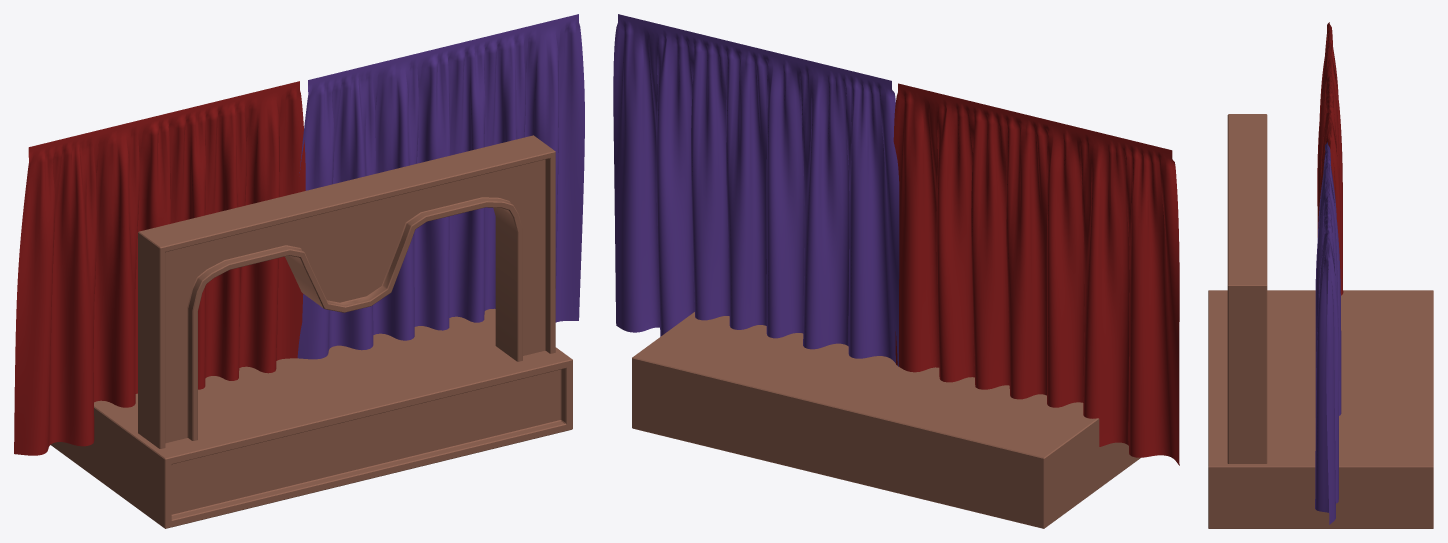
Rendered from marco.fbx.
The picture shows the model from 3 angles, left to right: view 1: azimuth 30°, elevation 25°; view 2: azimuth 150°, elevation 25°; view 3: azimuth 270°, elevation 25°; orthographic projection. The views are drawn at different scales.
Parts seen in each view (by area): view 1: Marco, Сurtain.001, Сurtain.002; view 2: Сurtain.002, Сurtain.001, Marco; view 3: Marco, Сurtain.002, Сurtain.001.
Part boxes in pixels (x1,y1,x2,y2): Marco: (50,135,572,528); Сurtain.001: (14,81,305,455); Сurtain.002: (297,14,584,359); Сurtain.002: (613,14,899,366); Сurtain.001: (893,83,1179,465); Marco: (632,312,1140,528); Marco: (1208,114,1433,528); Сurtain.002: (1315,142,1341,524); Сurtain.001: (1317,22,1343,295).
Size of the model in its own units: 1470 by 866 by 573.
